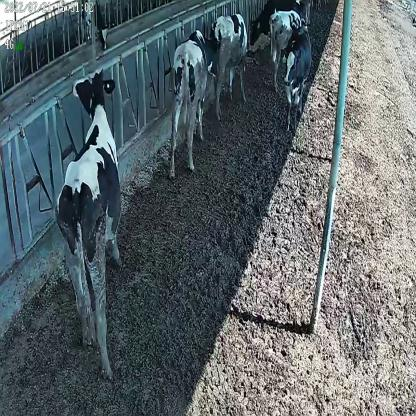cow: (53, 68, 121, 381), (168, 29, 209, 180), (209, 13, 250, 118), (282, 22, 311, 134), (268, 10, 302, 93)
